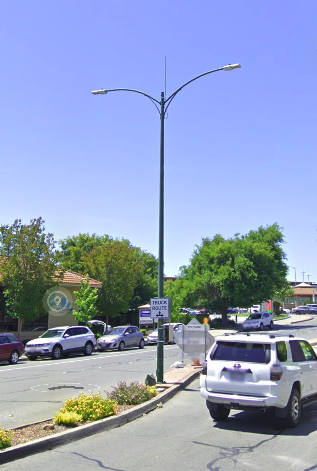pole: (85, 51, 248, 224)
